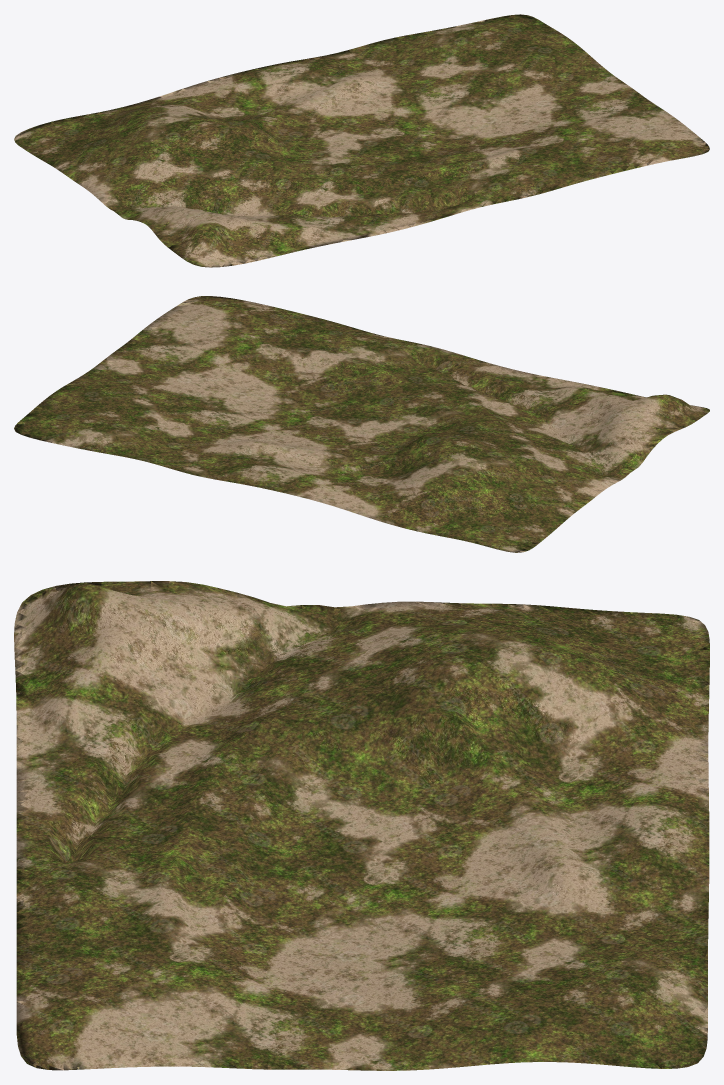
Rendered from terrain.fbx.
The picture shows the model from 3 angles, top to bottom: view 1: azimuth 30°, elevation 25°; view 2: azimuth 150°, elevation 25°; view 3: azimuth 270°, elevation 25°; orthographic projection. The views are drawn at different scales.
Visible parts, largest first — view 1: Plane.004; view 2: Plane.004; view 3: Plane.004.
Boxes of the visible parts, bbox=[...] form: Plane.004: bbox=[14, 14, 709, 267]; Plane.004: bbox=[14, 296, 709, 552]; Plane.004: bbox=[14, 581, 709, 1070].
Size of the model in its own units: 27806 by 2126 by 17764.
1 material, 1 textured.
